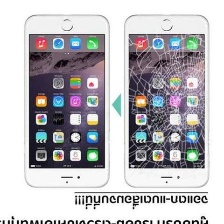phone: (20, 11, 113, 191), (120, 10, 211, 190)
